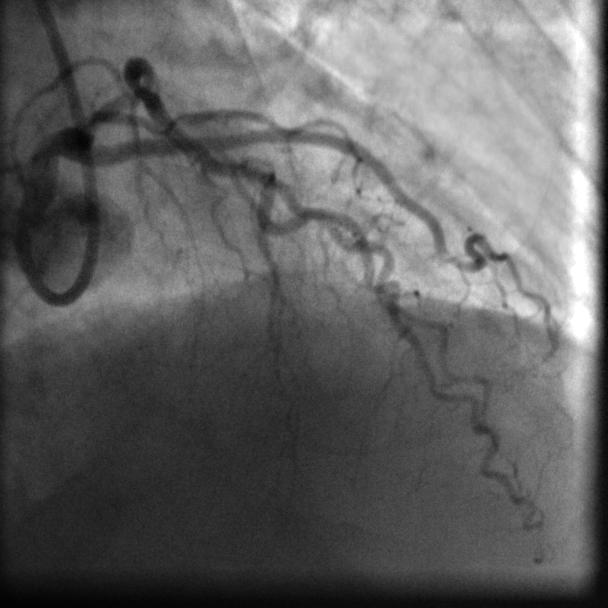Stenosis: (118, 70, 161, 98)
